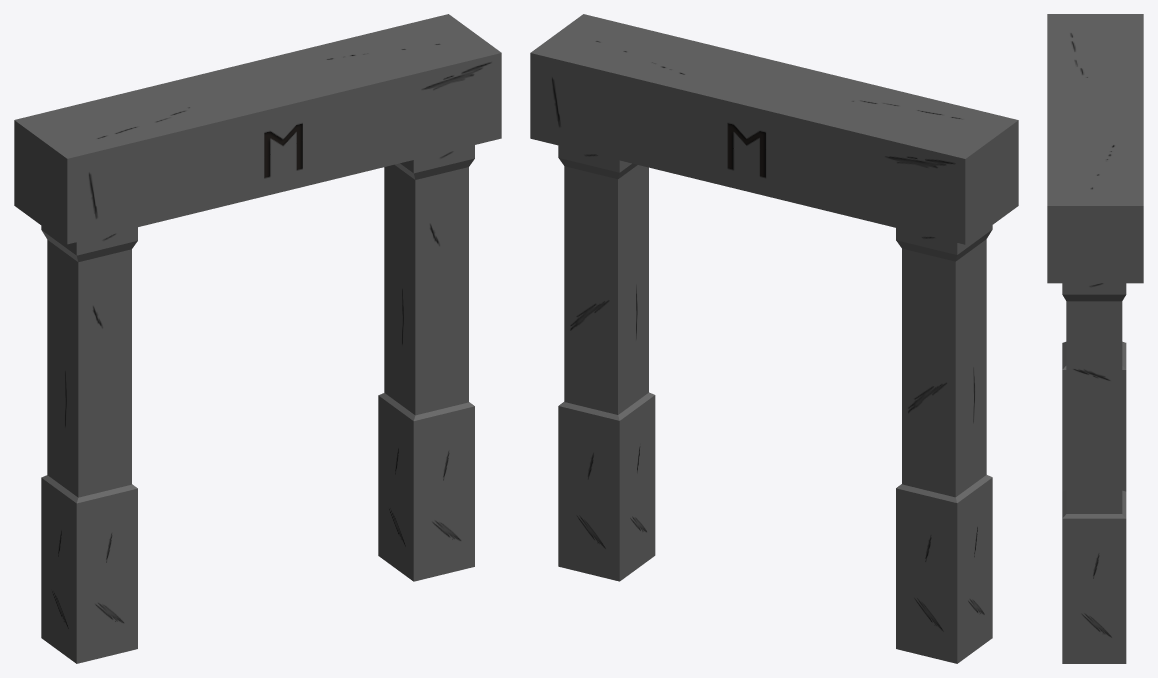
Rendered from Portal.fbx.
3 renders of one model, left to right at view 1: azimuth 30°, elevation 25°; view 2: azimuth 150°, elevation 25°; view 3: azimuth 270°, elevation 25°, orthographic. The views are drawn at different scales.
Parts seen in each view (by area): view 1: Box001; view 2: Box001; view 3: Box001.
Boxes of the visible parts, x1,y1,x2,y2 form: Box001: [14, 14, 501, 663]; Box001: [530, 14, 1018, 663]; Box001: [1047, 14, 1143, 663].
Size of the model in its own units: 167 by 190 by 35.43.
Materials: 1 (1 with a texture image).
